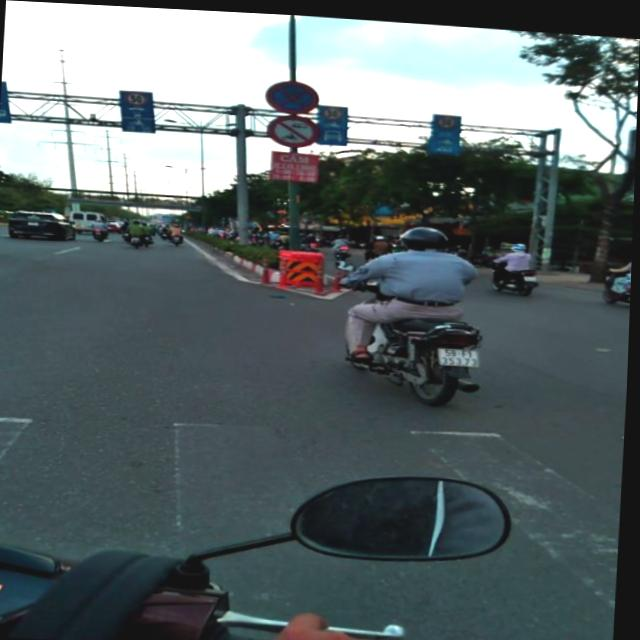Cam dung xe va do xe: (264, 75, 321, 112)
Toc do toi da cho phep: (124, 89, 149, 105), (323, 102, 344, 117), (436, 109, 457, 124)
